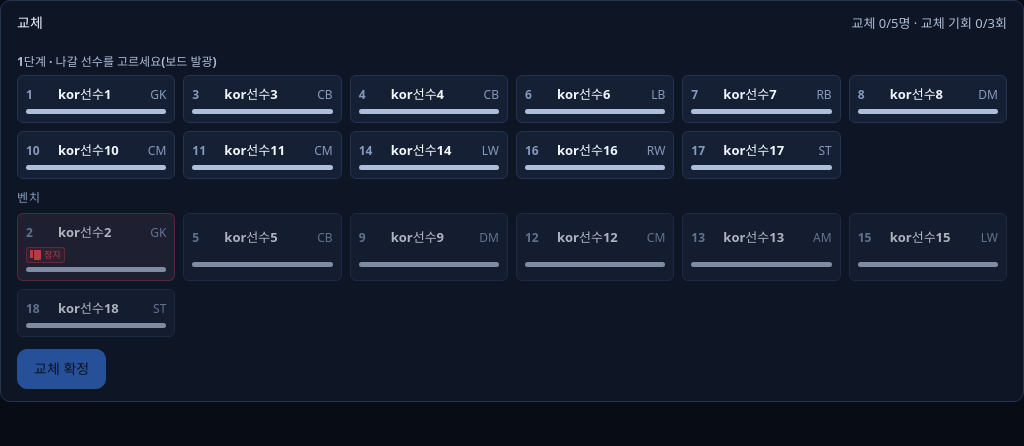
Test: 교체 탭 — 징계·컨디션 칩 › 출장정지 선수는 벤치에서 선택할 수 없고 사유가 붙는다
Click the button with class "cs-card--susp".
click(96, 247)  # box [17,213,175,281]
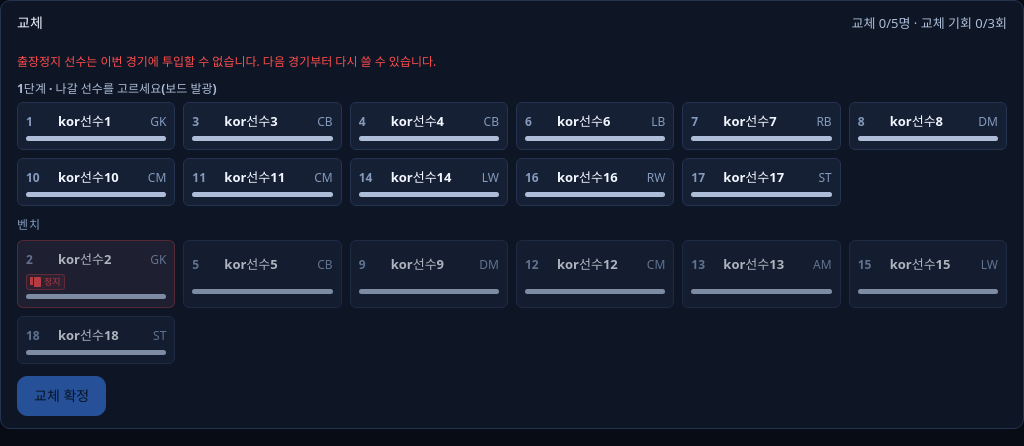
Check: the message with class "cs-error" shows "출장정지", box [17,53,436,70]
